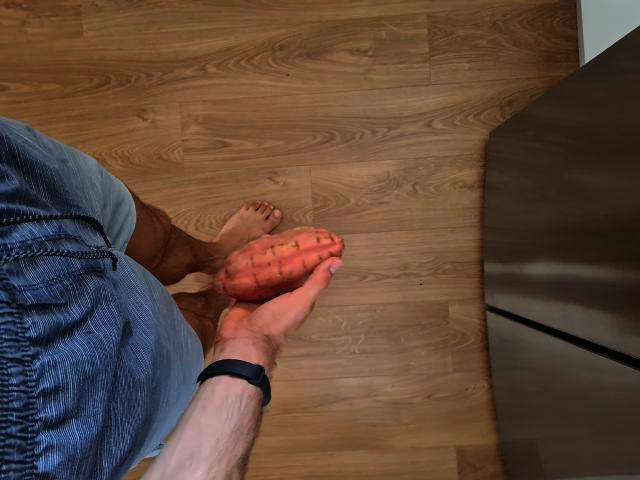sweet_potato: (214, 228, 339, 298)
